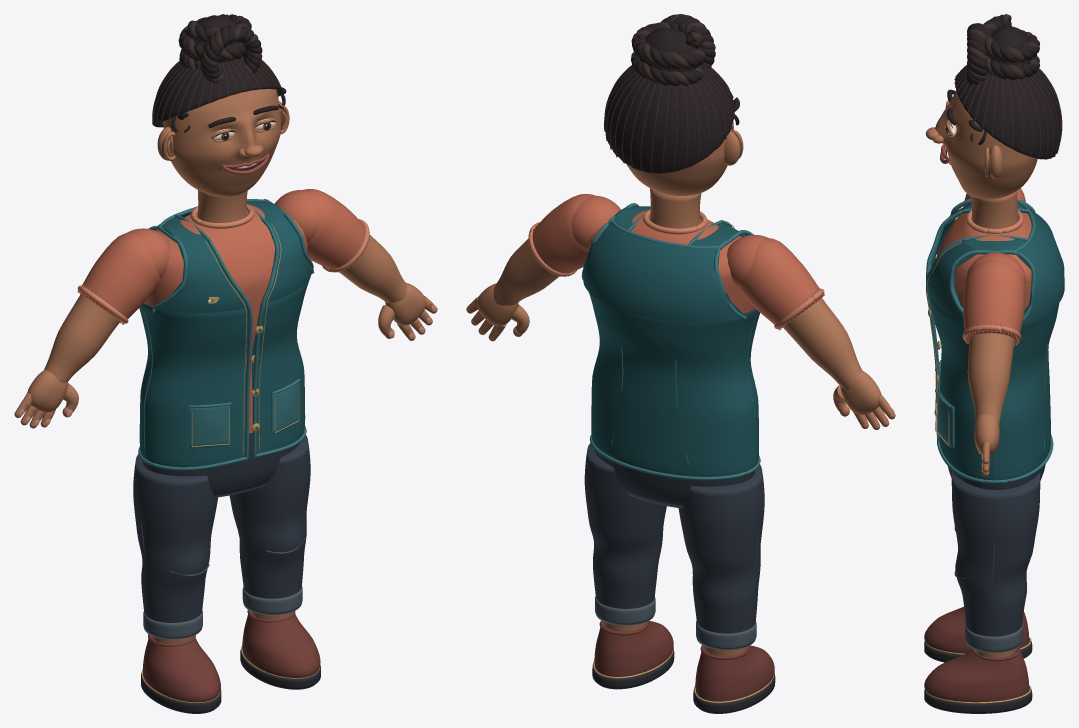
3 views of the same model, side by side, from view 1: azimuth 30°, elevation 25°; view 2: azimuth 150°, elevation 25°; view 3: azimuth 270°, elevation 25° (orthographic). The views are drawn at different scales.
Visible parts, largest first — view 1: woven vest / lower wrap with fabric thickness, trousers / right leg, trousers / left leg, head / adult oval sculpt with cheeks and eye sockets, cinnamon knit / torso, knit / right short sleeve, left shoe / sturdy leather upper, right shoe / sturdy leather upper, right arm / coherent elbow wrist palm transition, hair / swept scalp cap, vest / right upper front and shoulder, knit / left short sleeve (+22 smaller); view 2: woven vest / lower wrap with fabric thickness, trousers / right leg, vest / fitted back yoke, hair / swept scalp cap, trousers / left leg, knit / right short sleeve, right arm / coherent elbow wrist palm transition, left shoe / sturdy leather upper, right shoe / sturdy leather upper, knit / left short sleeve, trousers / tailored seat, head / adult oval sculpt with cheeks and eye sockets (+16 smaller); view 3: woven vest / lower wrap with fabric thickness, trousers / left leg, hair / swept scalp cap, head / adult oval sculpt with cheeks and eye sockets, left shoe / sturdy leather upper, knit / left short sleeve, left arm / coherent elbow wrist palm transition, vest / fitted back yoke, cinnamon knit / torso, right shoe / sturdy leather upper, vest / left upper front and shoulder, neck / adult taper (+25 smaller).
Part boxes in pixels (<box>): woven vest / lower wrap with fabric thickness: <box>139,271,311,470</box>; trousers / right leg: <box>133,454,217,622</box>; trousers / left leg: <box>229,435,310,598</box>; head / adult oval sculpt with cheeks and eye sockets: <box>163,89,280,197</box>; cinnamon knit / torso: <box>144,205,307,433</box>; knit / right short sleeve: <box>79,232,160,322</box>; left shoe / sturdy leather upper: <box>242,612,320,678</box>; right shoe / sturdy leather upper: <box>142,636,220,702</box>; right arm / coherent elbow wrist palm transition: <box>44,294,120,383</box>; hair / swept scalp cap: <box>153,56,280,127</box>; vest / right upper front and shoulder: <box>157,241,246,313</box>; knit / left short sleeve: <box>303,189,365,269</box>; woven vest / lower wrap with fabric thickness: <box>589,292,759,480</box>; trousers / right leg: <box>678,464,764,633</box>; vest / fitted back yoke: <box>583,222,744,322</box>; hair / swept scalp cap: <box>605,67,734,173</box>; trousers / left leg: <box>584,443,666,608</box>; knit / right short sleeve: <box>739,238,823,327</box>; right arm / coherent elbow wrist palm transition: <box>783,298,862,389</box>; left shoe / sturdy leather upper: <box>594,620,673,676</box>; right shoe / sturdy leather upper: <box>695,645,774,701</box>; knit / left short sleeve: <box>532,194,594,273</box>; trousers / tailored seat: <box>594,449,754,508</box>; head / adult oval sculpt with cheeks and eye sockets: <box>626,121,733,195</box>; woven vest / lower wrap with fabric thickness: <box>929,292,1059,483</box>; trousers / left leg: <box>951,471,1040,636</box>; hair / swept scalp cap: <box>955,67,1060,159</box>; head / adult oval sculpt with cheeks and eye sockets: <box>935,90,1037,199</box>; left shoe / sturdy leather upper: <box>924,648,1028,702</box>; knit / left short sleeve: <box>963,259,1025,345</box>; left arm / coherent elbow wrist palm transition: <box>967,333,1014,425</box>; vest / fitted back yoke: <box>1016,208,1064,323</box>; cinnamon knit / torso: <box>936,212,1031,309</box>; right shoe / sturdy leather upper: <box>924,606,1028,653</box>; vest / left upper front and shoulder: <box>928,240,975,320</box>; neck / adult taper: <box>971,191,1018,228</box>.
Size of the model in its own units: 0.9503 by 1.41 by 0.276.
